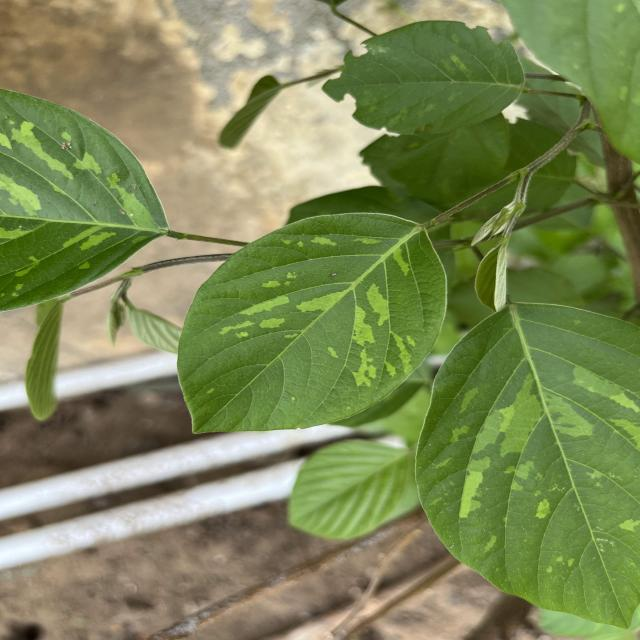Desmodium gangeticum: (413, 296, 640, 631), (172, 208, 454, 438)
